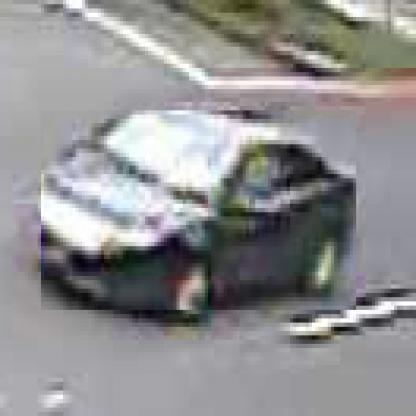car: (39, 111, 357, 315)
